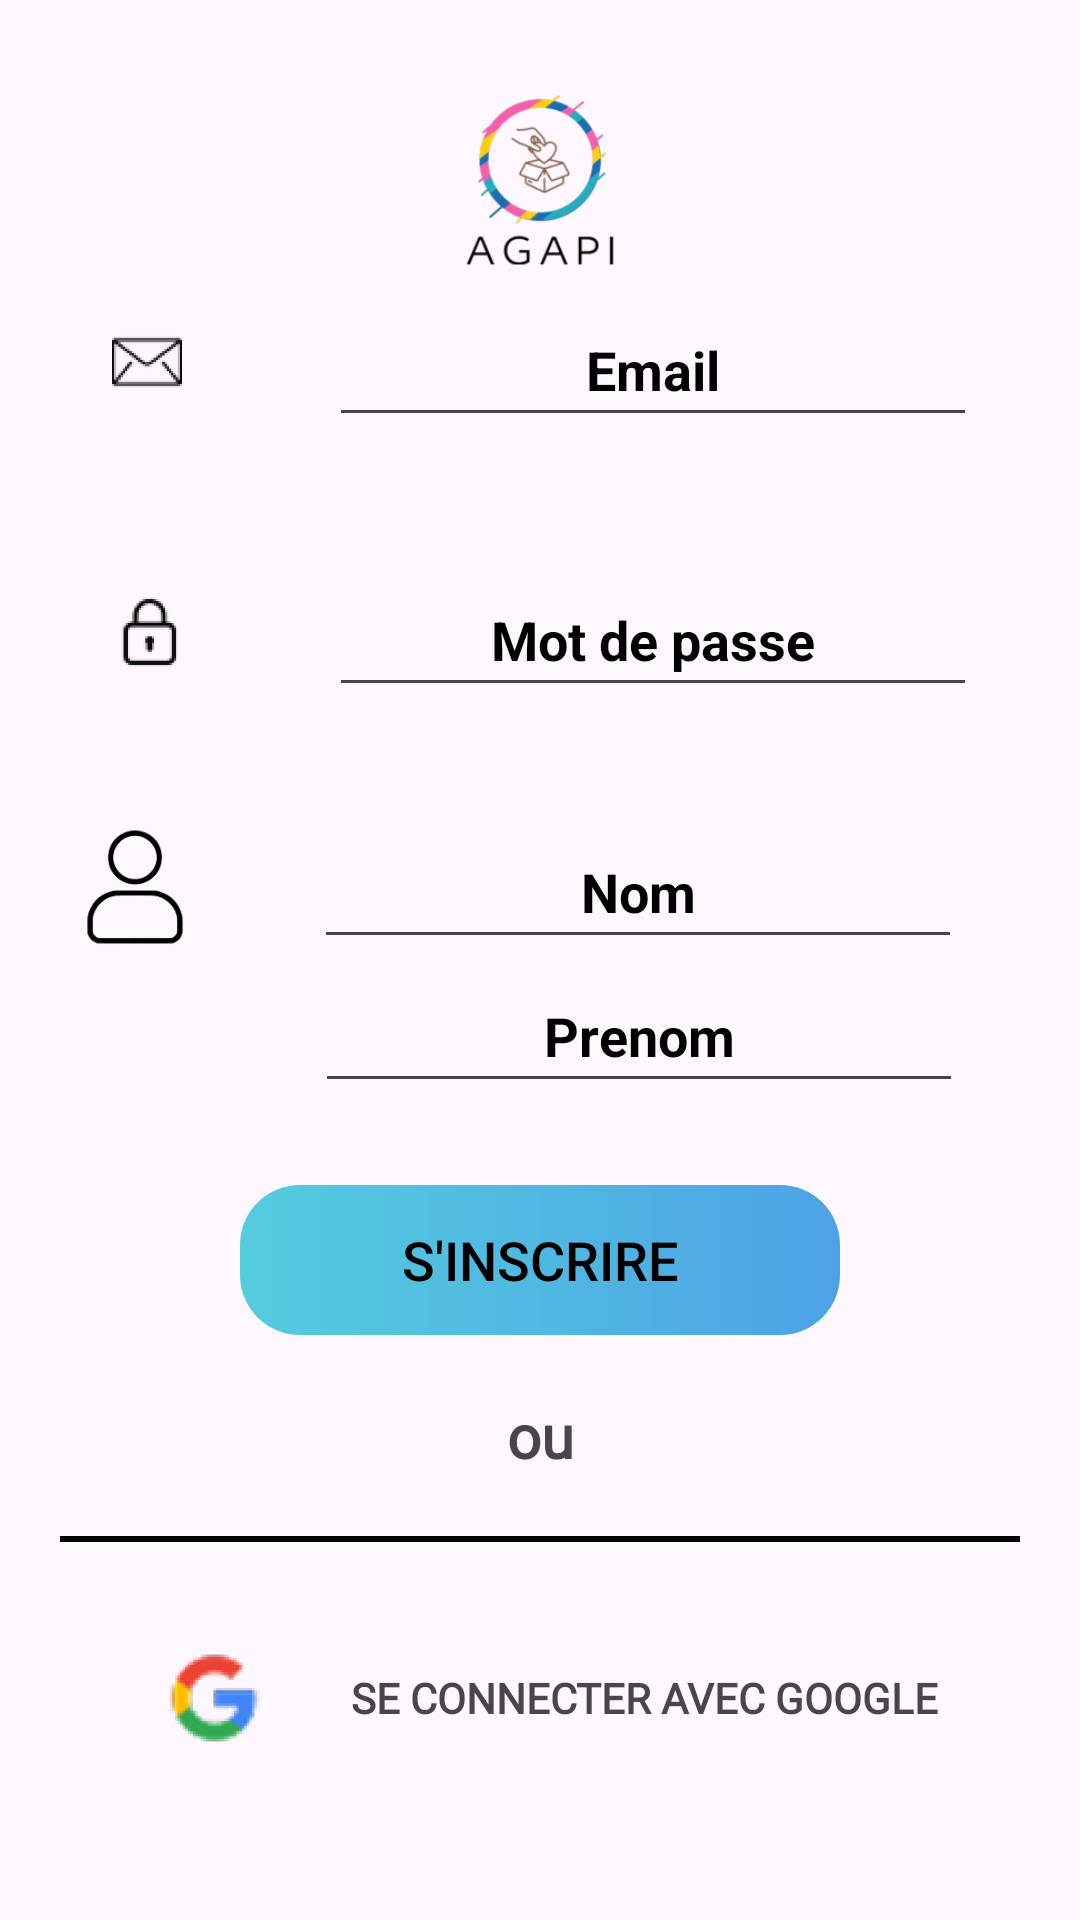

Locate icon controls on the screen. Image size 1080px x 1920px, boxes as {"left": x1, "top": y1, "right": x2, "bottom": y2}.
mail Icon: {"left": 112, "top": 337, "right": 182, "bottom": 387}
password icon: {"left": 123, "top": 599, "right": 177, "bottom": 665}
profil: {"left": 87, "top": 830, "right": 183, "bottom": 944}
